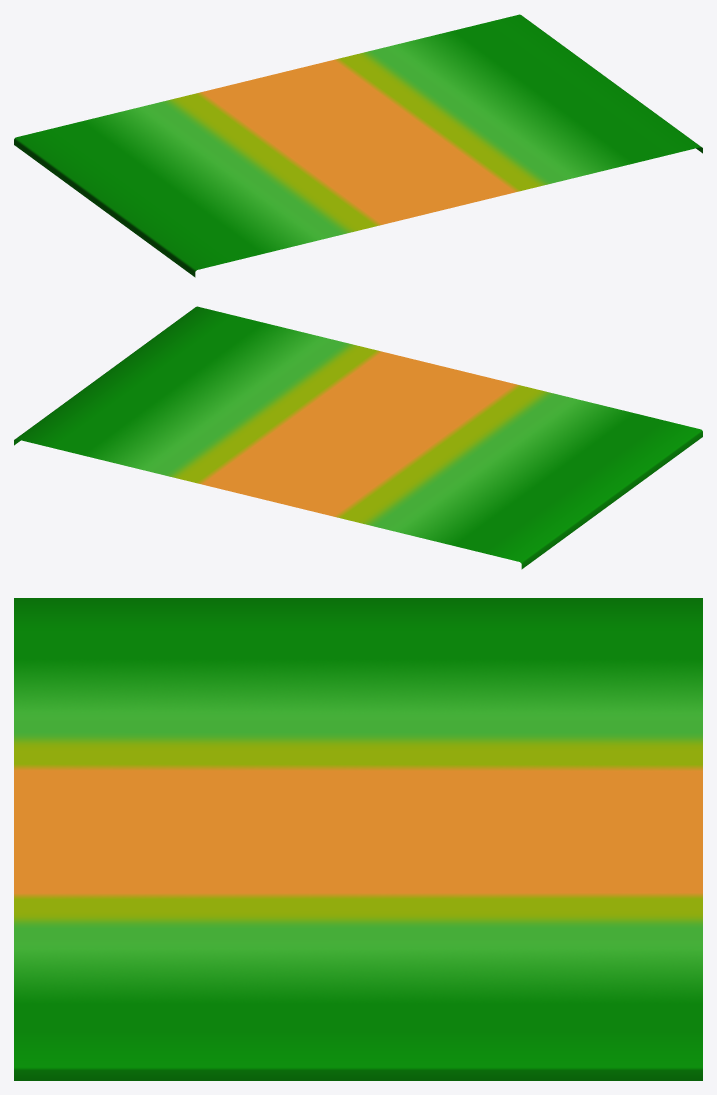
The model's file is Road.FBX.
The picture shows the model from 3 angles, top to bottom: view 1: azimuth 30°, elevation 25°; view 2: azimuth 150°, elevation 25°; view 3: azimuth 270°, elevation 25°; orthographic projection. The views are drawn at different scales.
Parts seen in each view (by area): view 1: Plane002; view 2: Plane002; view 3: Plane002.
Boxes of the visible parts, box(x1,y1,x2,y2) form: Plane002: box(14, 14, 702, 277); Plane002: box(14, 306, 702, 569); Plane002: box(14, 598, 702, 1080).
Bounding box in the file's own units: 58.27 × 0.7685 × 36.02.
1 material, 1 textured.
